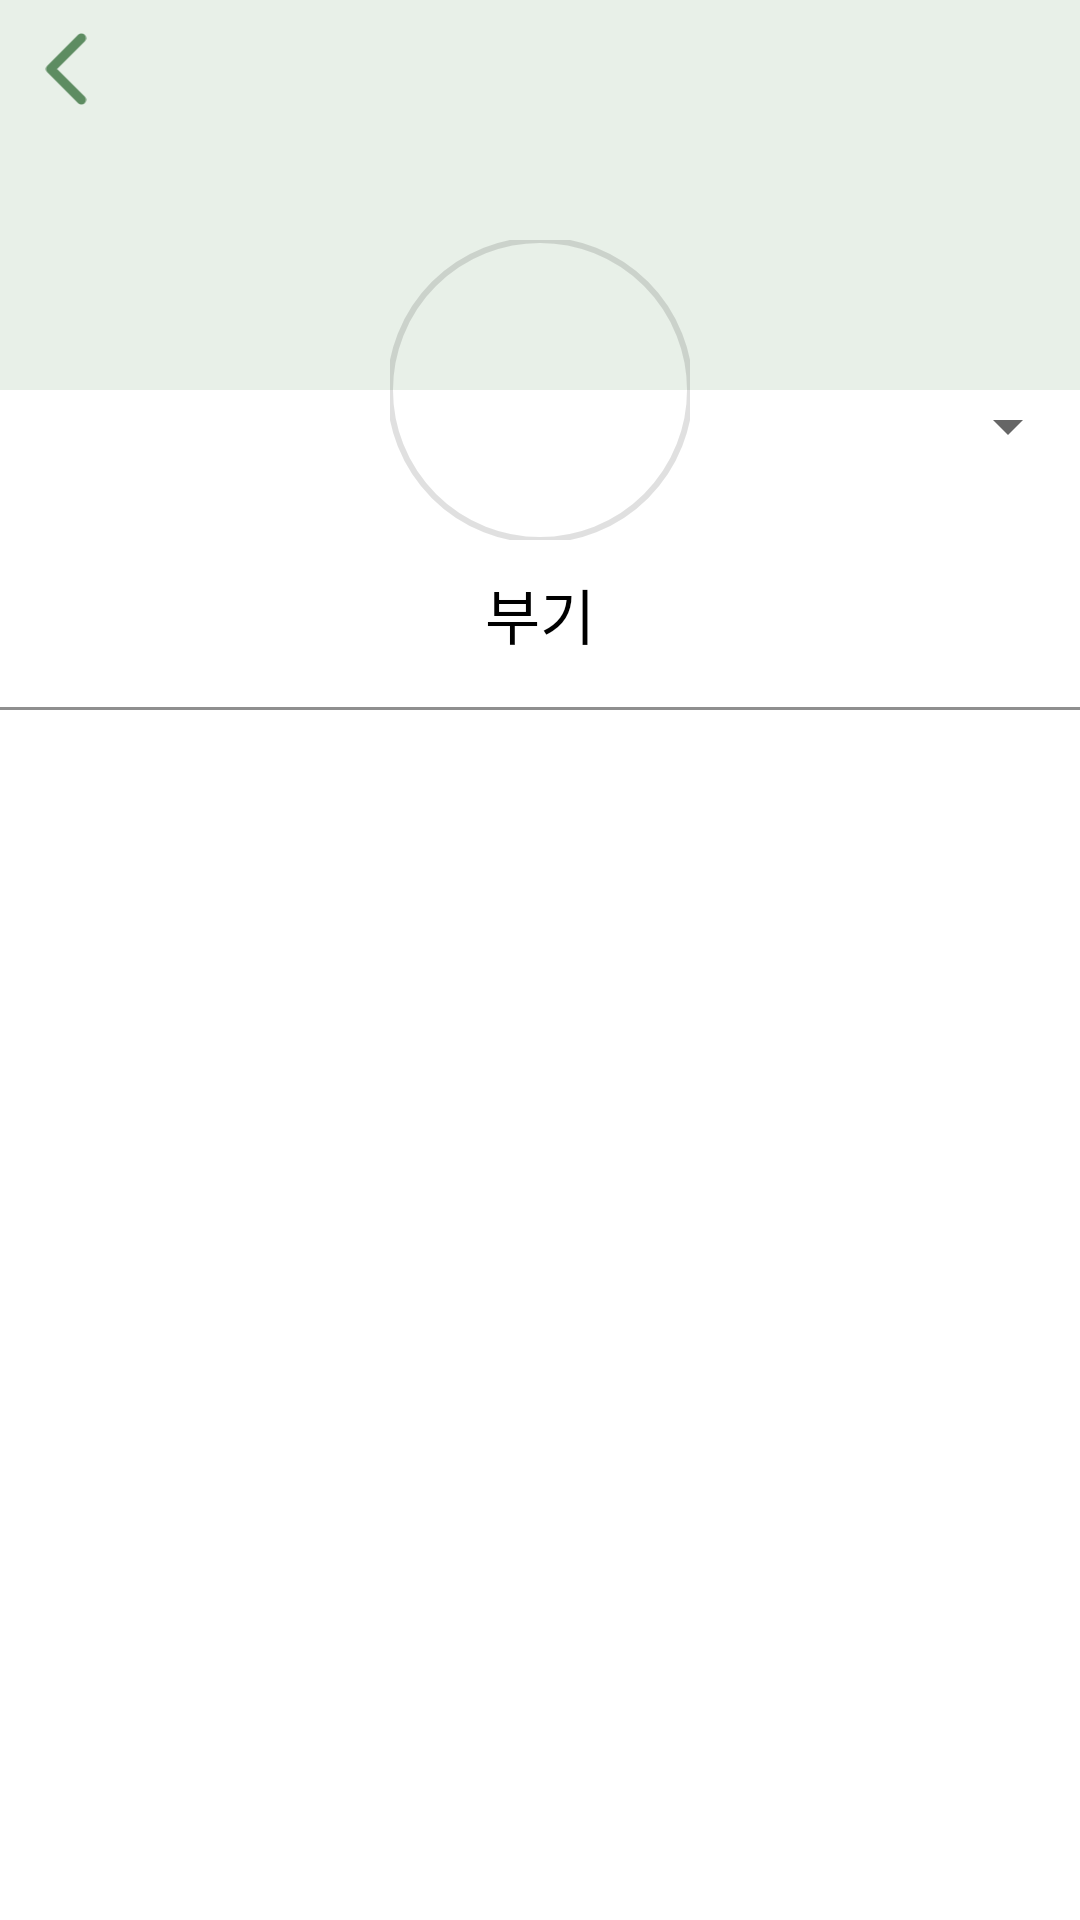

Locate icon controls on the screen. Image size 1080 x 1920, boxes as box(x1, y1, x2, y2).
arrow back: box(45, 33, 87, 105)
